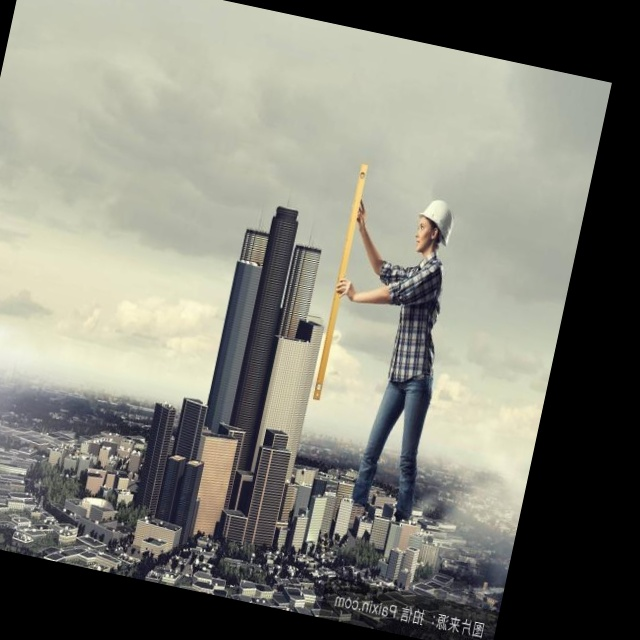Con_Casco: (411, 197, 459, 255)
Sin_Chaleco: (383, 249, 455, 388)
